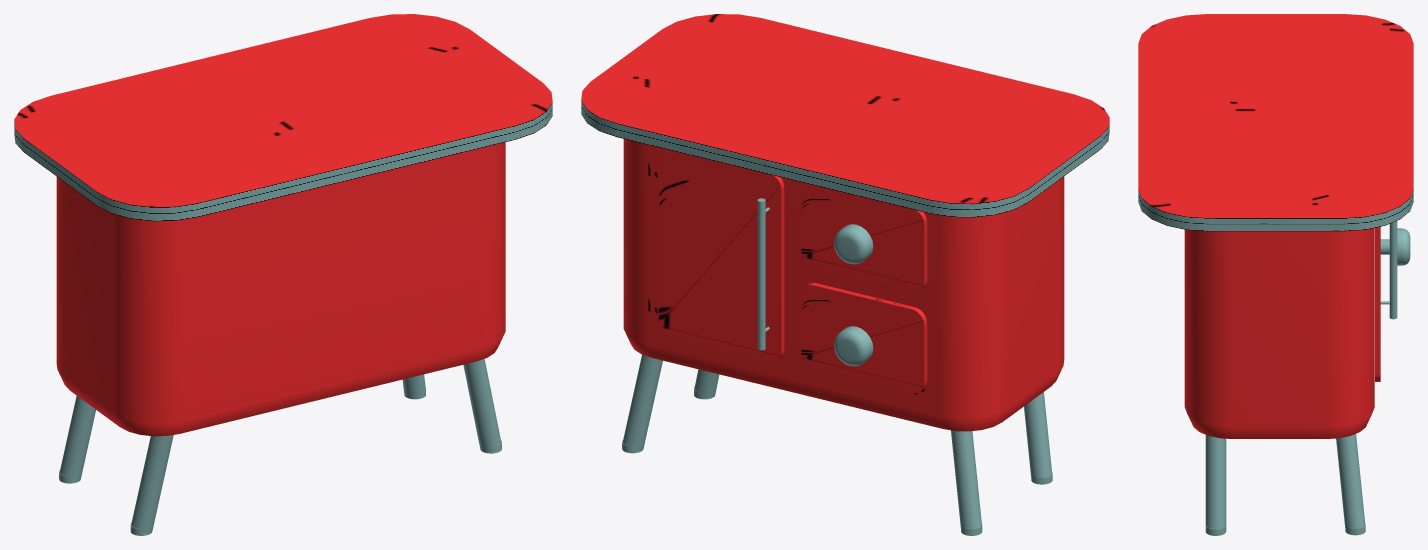
File: mesaMarceline.obj
The picture shows the model from 3 angles, left to right: view 1: azimuth 30°, elevation 25°; view 2: azimuth 150°, elevation 25°; view 3: azimuth 270°, elevation 25°; orthographic projection. The views are drawn at different scales.
Visible parts, largest first — view 1: pCube6; view 2: pCube6; view 3: pCube6.
Part boxes in pixels (x1,y1,x2,y2): pCube6: (14,14,552,535); pCube6: (581,14,1109,535); pCube6: (1138,14,1413,535).
Bounding box in the file's own units: 3.54 × 2.72 × 2.02.
Materials: 3 (3 with a texture image).
